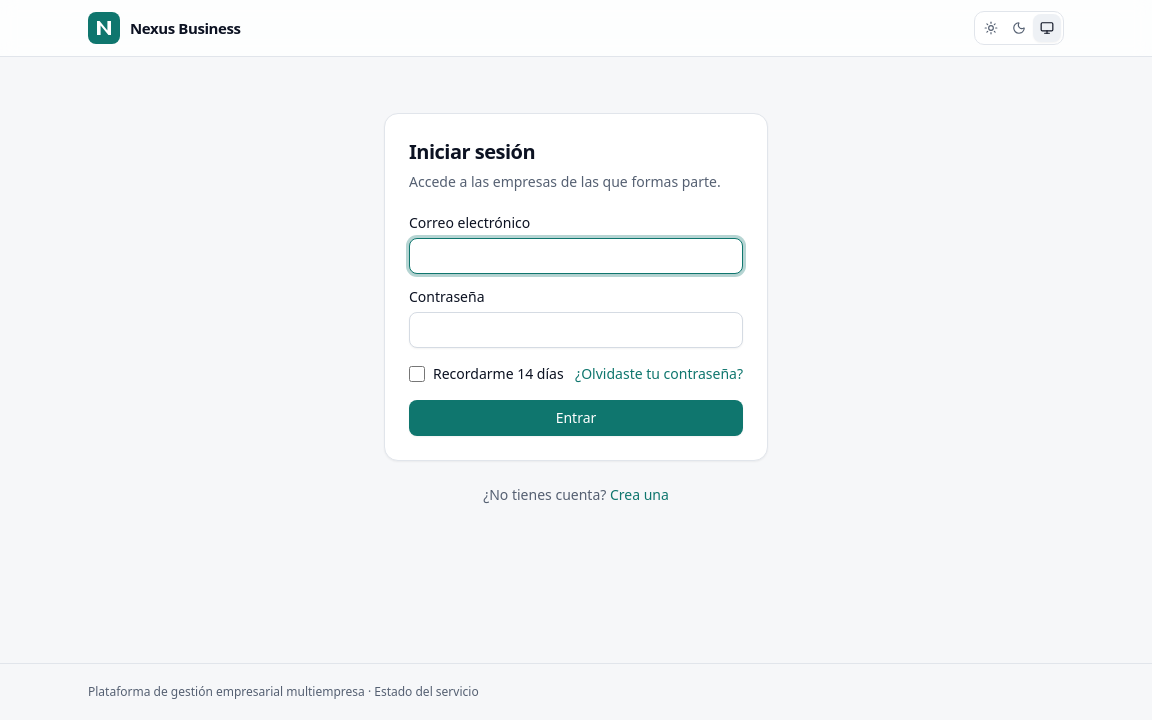
Scenario: sign in › shows the API message for wrong credentials
In the field labelled "Correo electrónico": (576, 256) [409,238,743,274], type "ana@example.test"
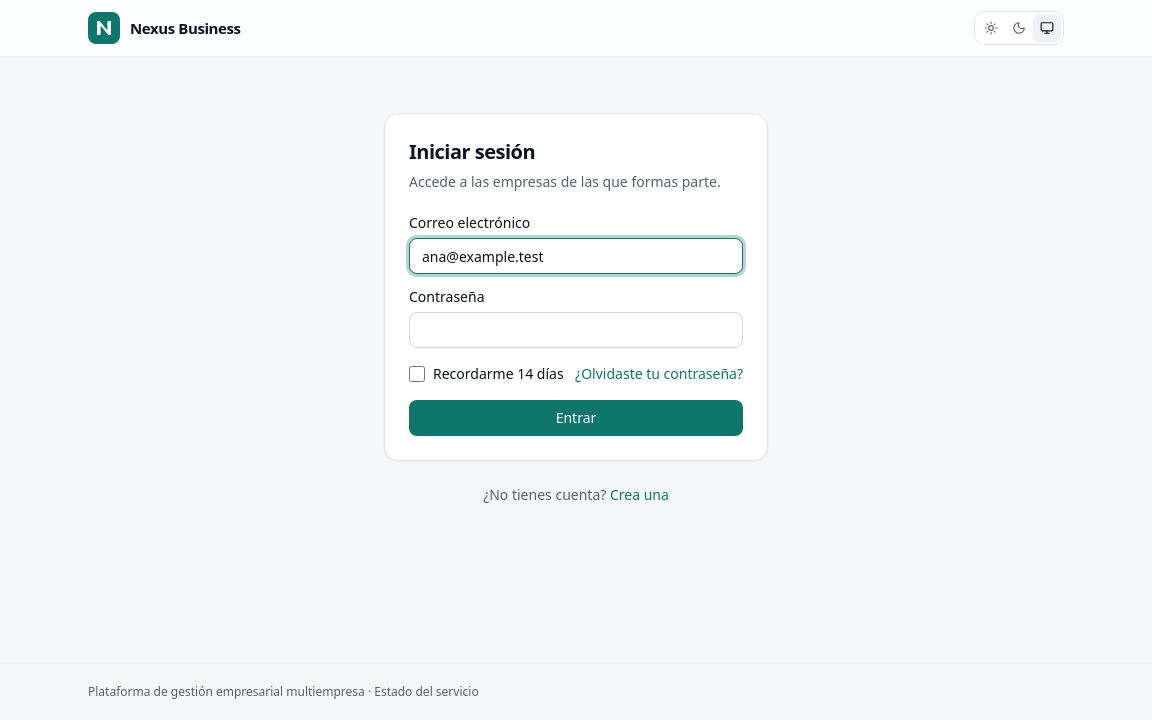
In the password field labelled "Contraseña": (576, 330) [409,312,743,348], type "nope"
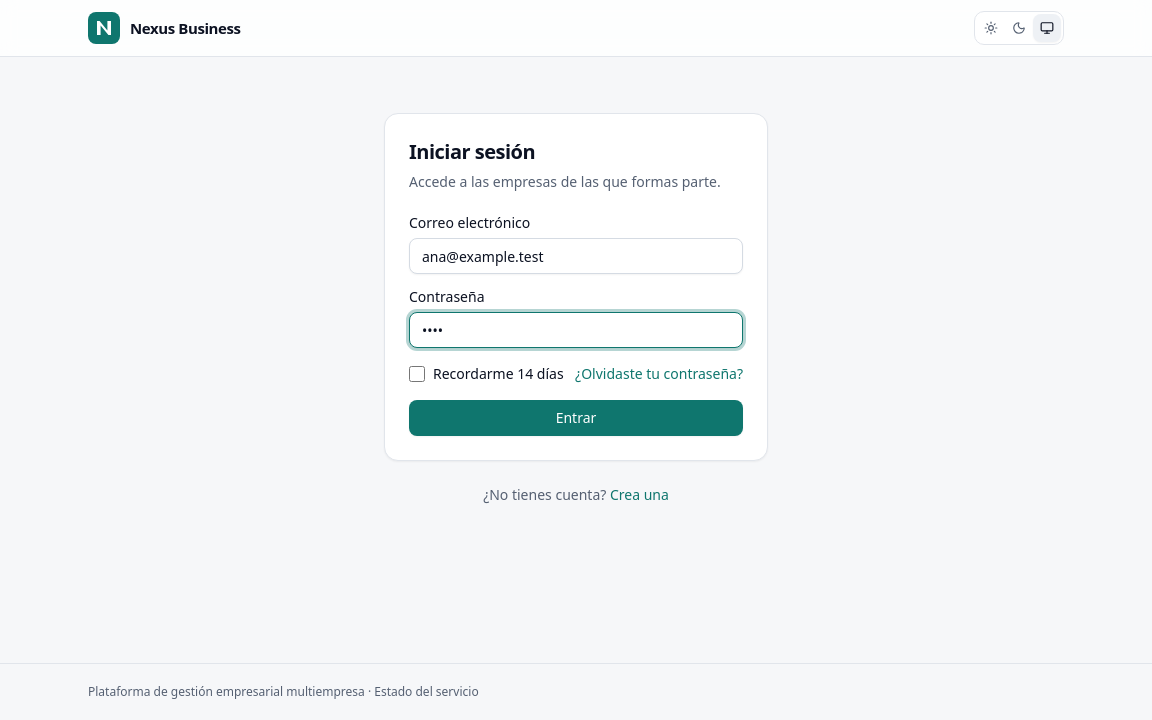
Click the button "Entrar": (576, 418) [409,400,743,436]
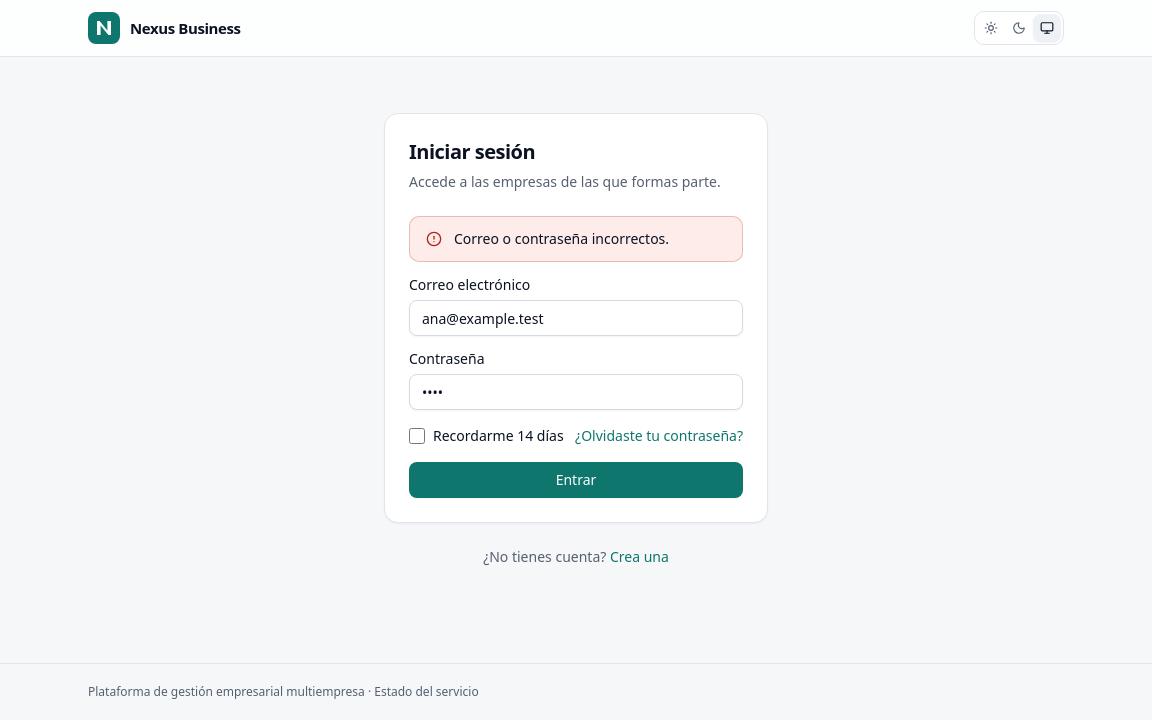
Result: the message reads "Correo o contraseña incorrectos." at [454,229,669,248]
